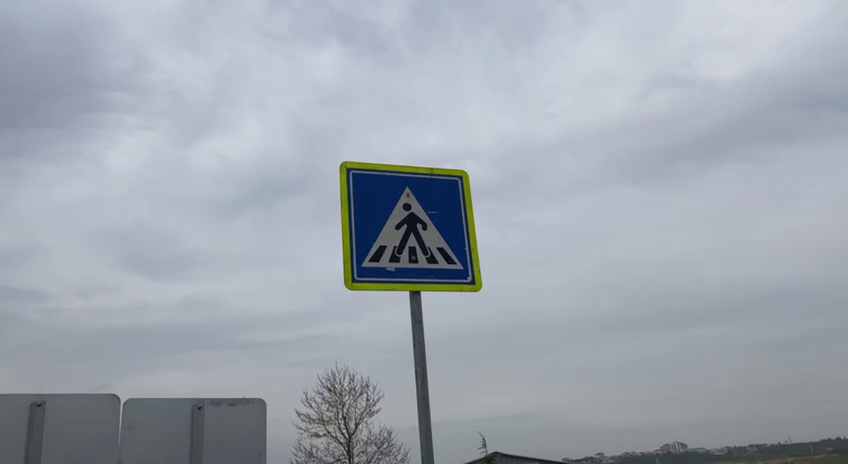pedestrianCrossing: (336, 159, 483, 293)
